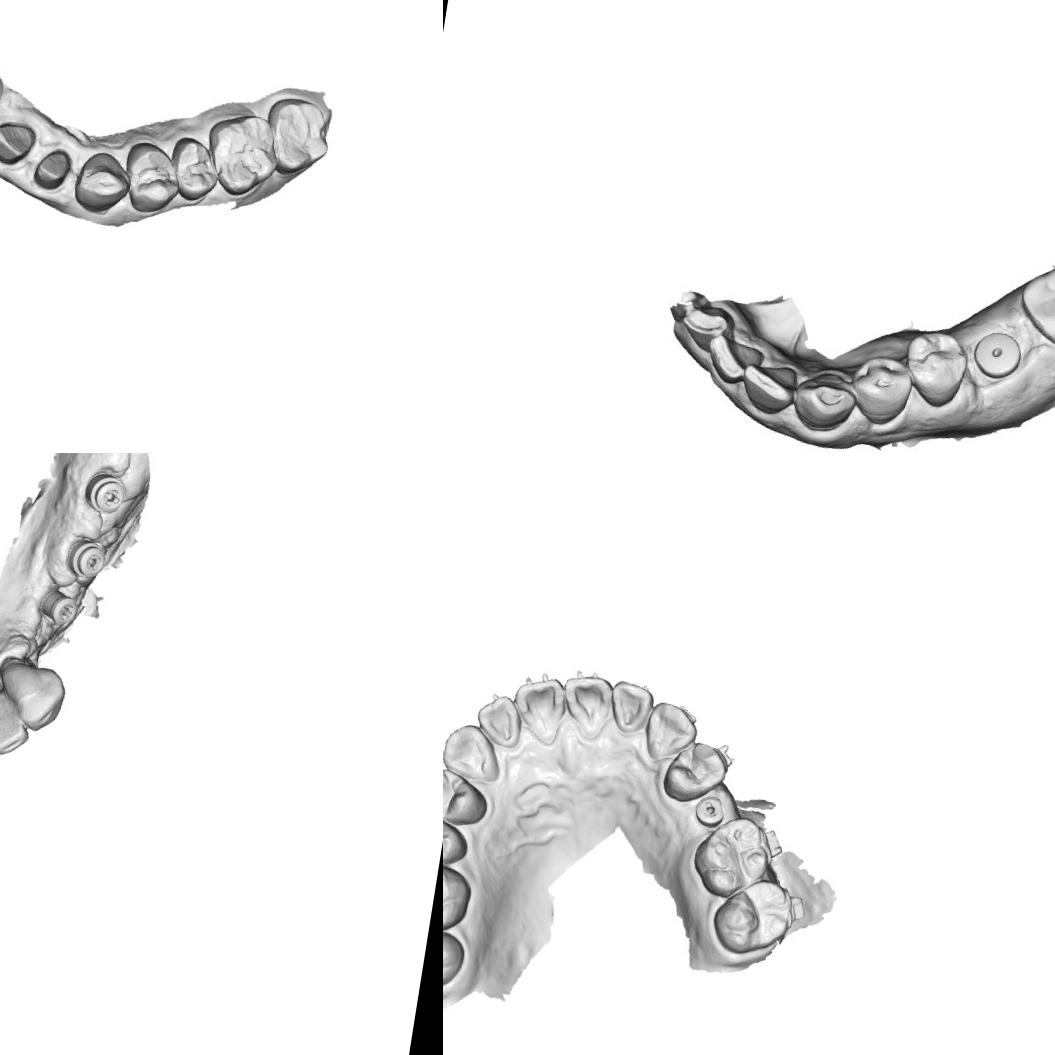canine: (0, 655, 71, 736), (790, 368, 863, 439), (70, 147, 136, 220), (443, 719, 508, 787), (638, 699, 701, 769)
crown: (28, 142, 76, 195), (0, 114, 39, 170)
implant: (972, 327, 1024, 381)
implant_minus: (690, 792, 728, 834)
implant_plus: (80, 467, 130, 518), (34, 584, 81, 628), (67, 537, 109, 584)
incisor: (506, 666, 572, 748), (555, 669, 616, 743), (740, 356, 805, 416), (471, 690, 527, 751), (604, 678, 659, 740), (708, 330, 766, 386), (685, 296, 736, 350), (0, 703, 34, 763)
molar: (686, 809, 777, 906), (198, 105, 288, 203), (706, 870, 799, 962), (258, 93, 340, 180), (1011, 251, 1055, 354), (443, 856, 475, 934), (443, 919, 468, 995)
premolar: (116, 138, 187, 220), (659, 736, 732, 810), (850, 355, 916, 425), (906, 332, 970, 404), (165, 133, 225, 206), (443, 763, 493, 830), (443, 809, 473, 868)
